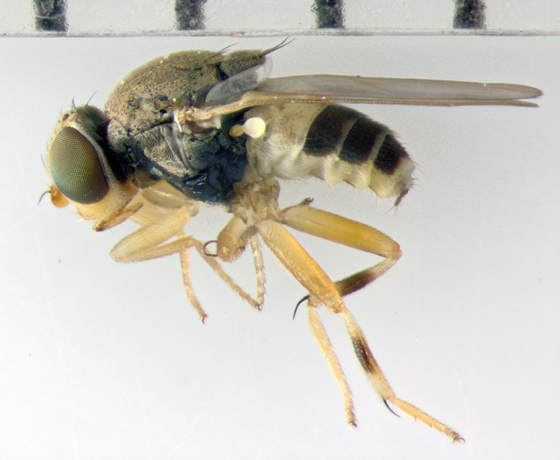Chloropidae: (36, 40, 543, 443)
